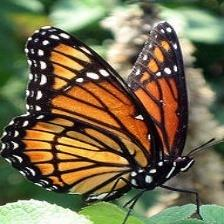butterfly: (0, 22, 196, 204)
